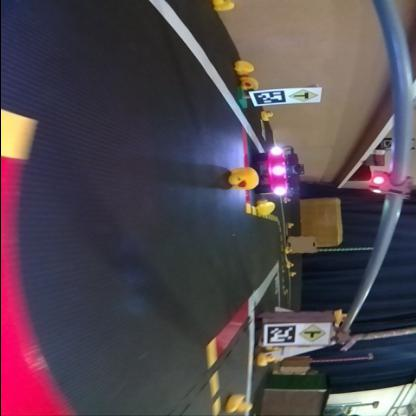Duckie: (231, 167, 259, 189), (224, 395, 252, 411), (211, 0, 237, 13), (256, 200, 274, 214), (256, 352, 274, 366), (235, 61, 251, 75), (240, 76, 256, 88), (262, 110, 272, 120), (284, 197, 292, 203), (284, 247, 290, 252), (286, 224, 292, 228), (290, 272, 296, 276), (287, 261, 292, 265)
Duckiebot: (255, 146, 295, 198)
Intersection sign: (300, 322, 326, 342), (288, 88, 318, 102)
QR code: (266, 325, 296, 345), (255, 90, 285, 102)
Traffic light: (374, 173, 410, 196)
